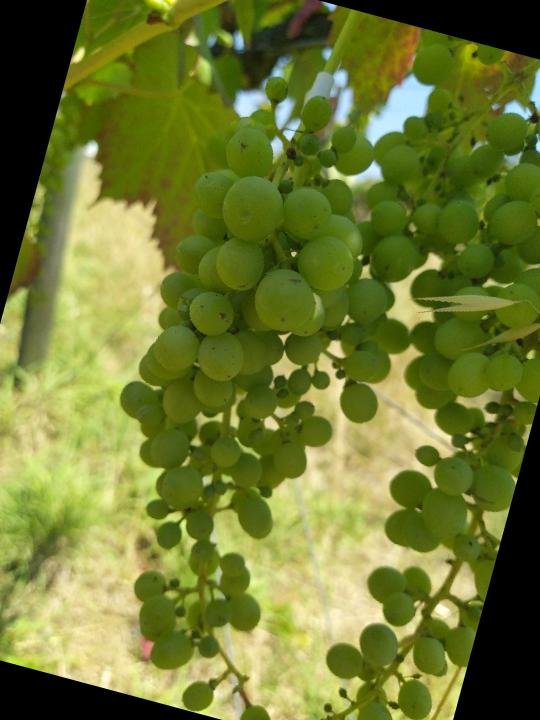grape: (44, 55, 468, 720)
